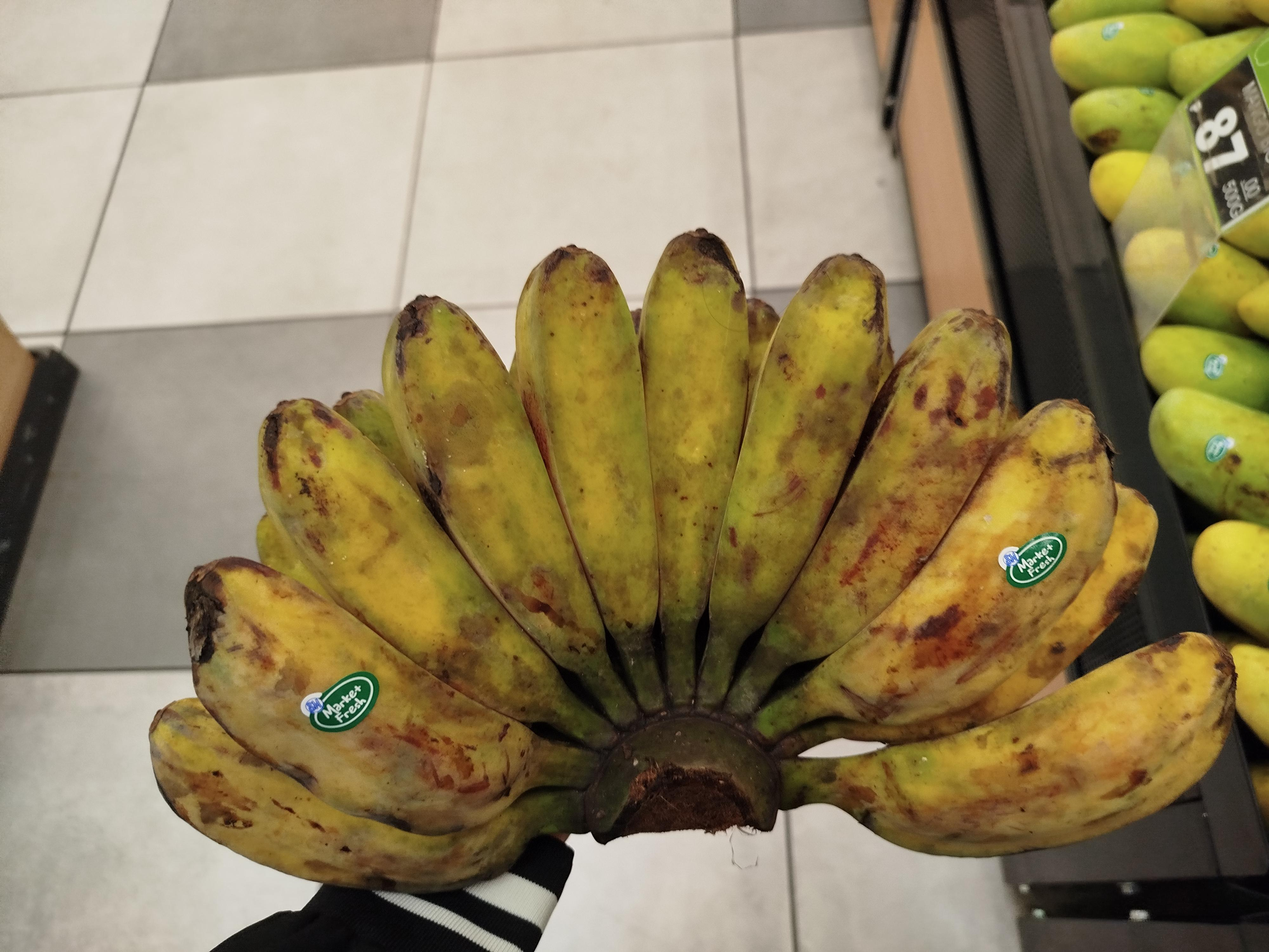underripe: (151, 229, 1236, 891)
